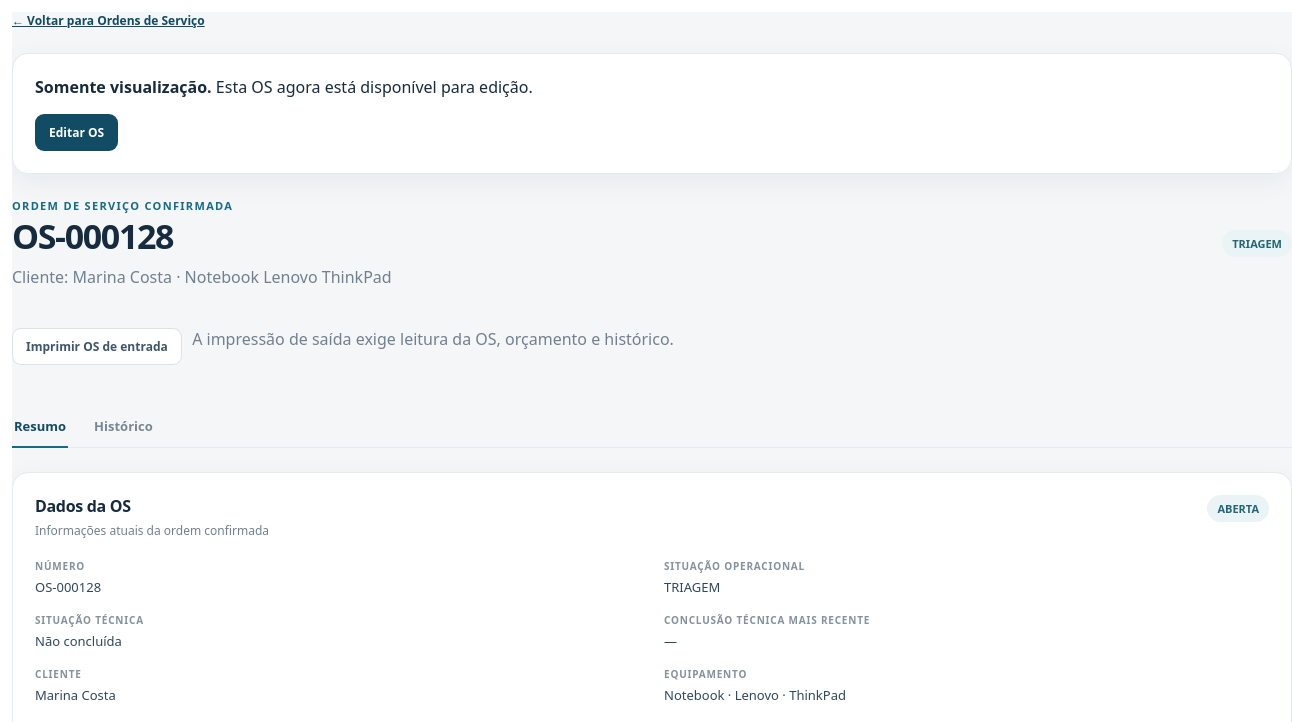
ServiceOrderDetailPage › não assume quando a OS fica livre; só adquire após ação explícita
Check: the text "OS em edição por joao." is shown, box x1=35 y1=76 x2=212 y2=98
Check: the text "Esta OS agora está disponível para edição." is shown, box x1=216 y1=76 x2=533 y2=98
Click the button "Editar OS": click(77, 132) x1=35 y1=114 x2=118 y2=151
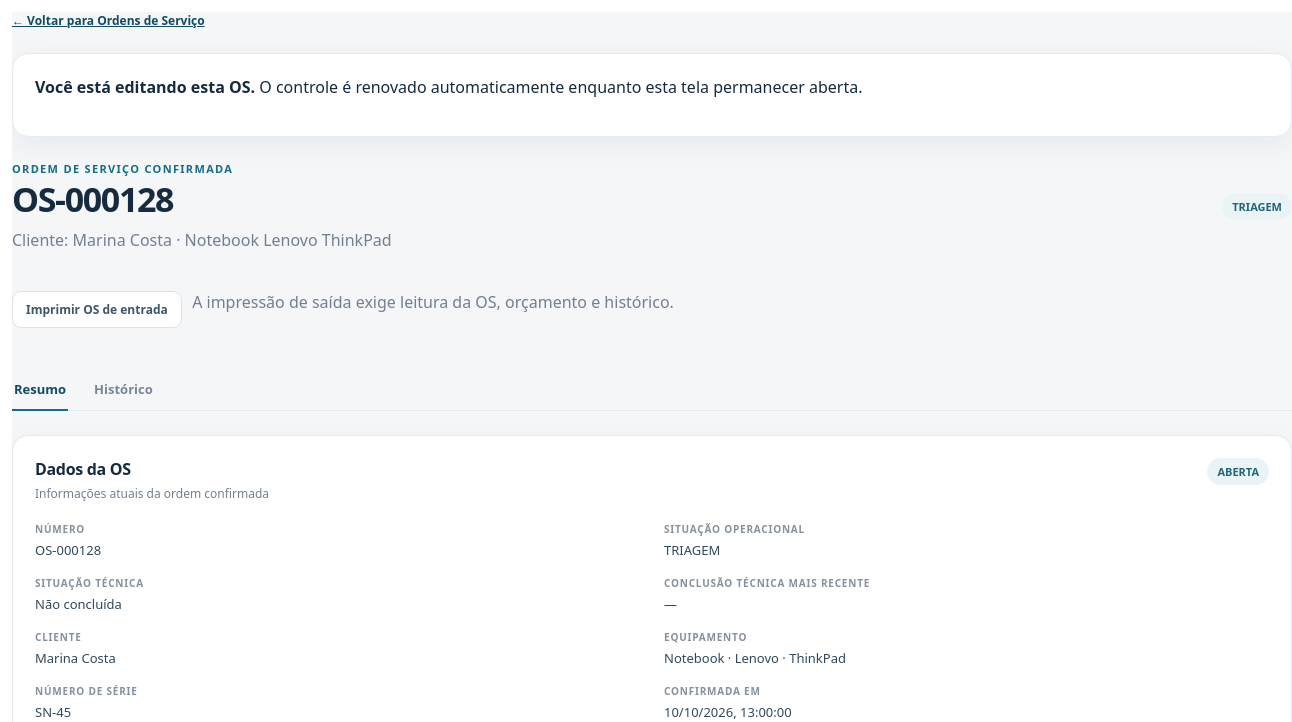
Check: the text "Você está editando esta OS." is shown, box x1=35 y1=76 x2=255 y2=98
